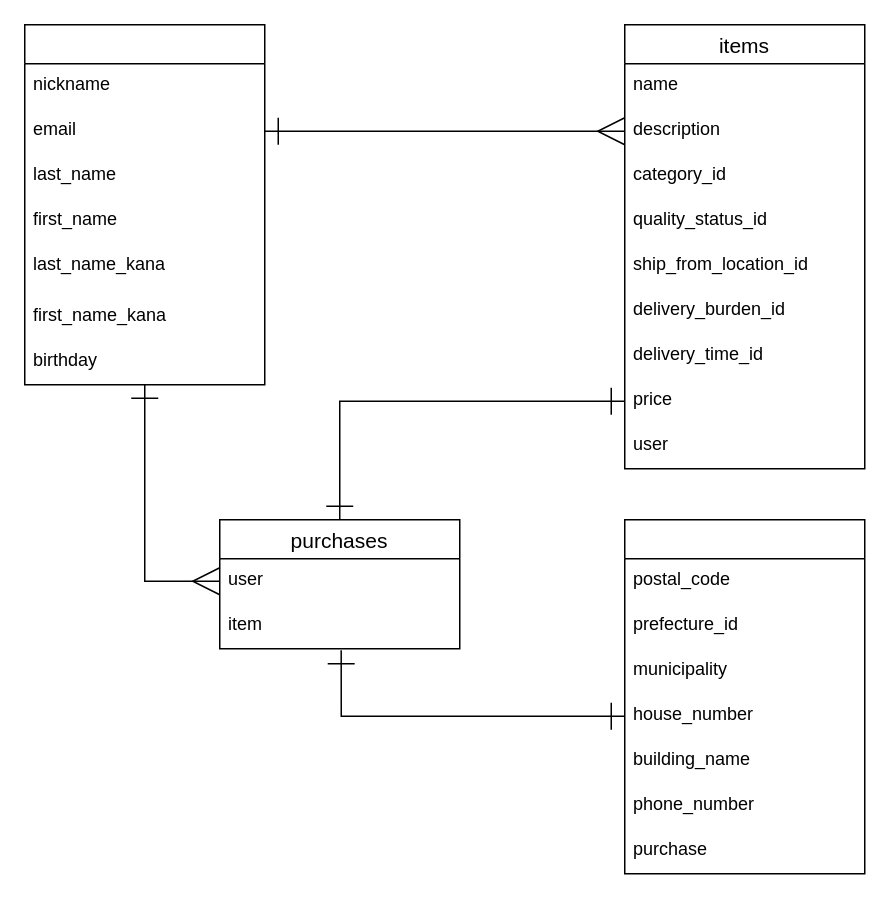
Some shapes in this 890 by 899 pixel diagram are drawn without their labels. The box of each missing label's shape, as (x1, y1, x2, y2) in pixels:
addresses: (623, 518, 865, 874)
users: (23, 23, 265, 385)
